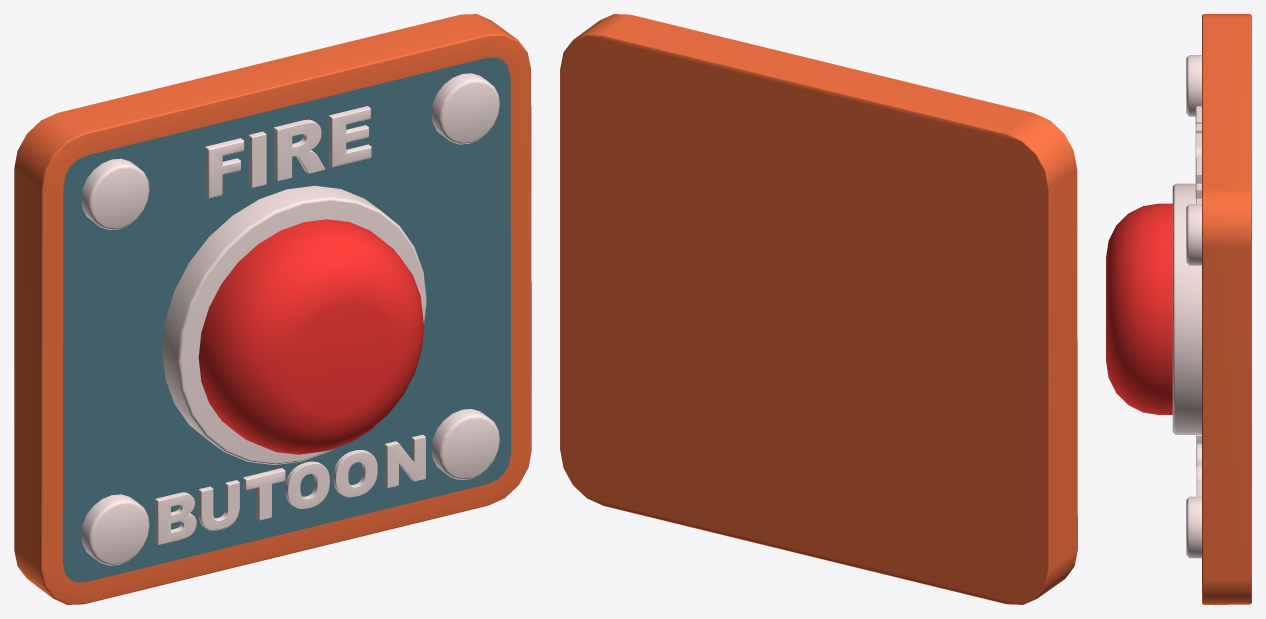
Rendered from Public_11_Fire_Button_Sign_1.glb.
3 renders of one model, left to right at view 1: azimuth 30°, elevation 25°; view 2: azimuth 150°, elevation 25°; view 3: azimuth 270°, elevation 25°, orthographic. The views are drawn at different scales.
Visible parts, largest first — view 1: Public_11_Fire_Button_Sign_1; view 2: Public_11_Fire_Button_Sign_1; view 3: Public_11_Fire_Button_Sign_1.
Boxes of the visible parts, bbox=[...] form: Public_11_Fire_Button_Sign_1: bbox=[14, 14, 531, 604]; Public_11_Fire_Button_Sign_1: bbox=[560, 14, 1077, 604]; Public_11_Fire_Button_Sign_1: bbox=[1106, 14, 1251, 604].
Size of the model in its own units: 1.36 by 1.25 by 0.4024.
1 material, 1 textured.
